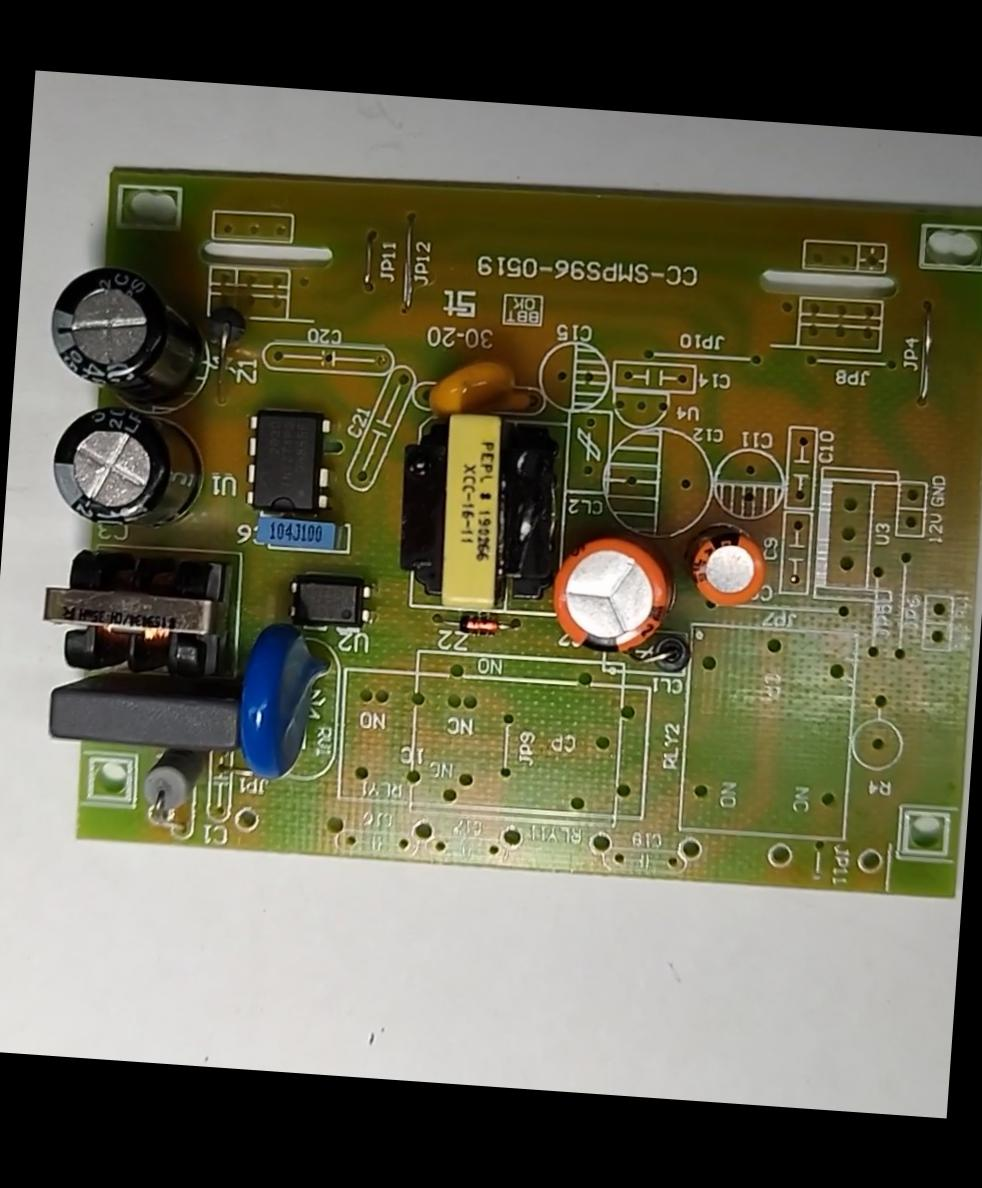Cap1: (544, 530, 674, 655)
Cap2: (689, 530, 770, 610)
Cap3: (44, 400, 207, 530)
Cap4: (42, 257, 222, 417)
MOSFET: (235, 406, 338, 518)
Mov: (232, 614, 334, 788)
Resistor: (135, 738, 210, 818)
Transformer: (389, 406, 574, 622), (32, 542, 248, 688)
